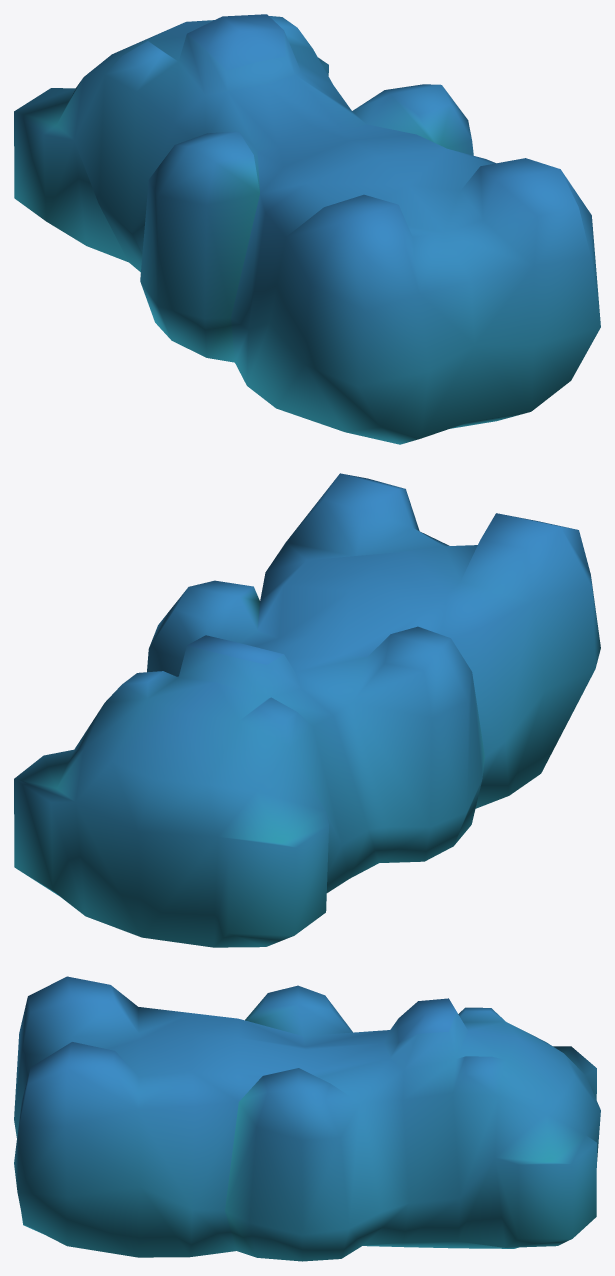
File: consumables-sugar-gummybear_v2.glb
3 renders of one model, top to bottom at view 1: azimuth 30°, elevation 25°; view 2: azimuth 150°, elevation 25°; view 3: azimuth 270°, elevation 25°, orthographic. The views are drawn at different scales.
Parts seen in each view (by area): view 1: GummyBear_v2; view 2: GummyBear_v2; view 3: GummyBear_v2.
Part boxes in pixels (x1,y1,x2,y2): GummyBear_v2: (14,14,600,444); GummyBear_v2: (14,473,600,947); GummyBear_v2: (14,976,600,1261).
Size of the model in its own units: 0.0171 by 0.0133 by 0.0328.
